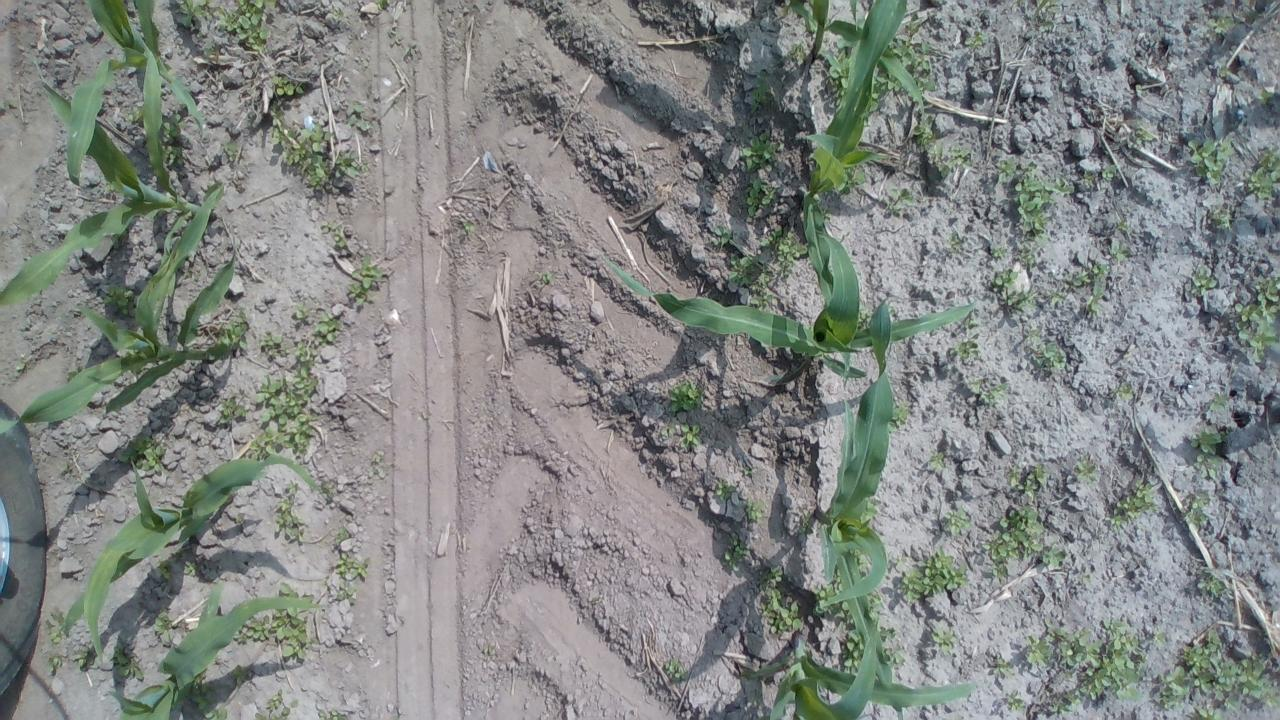Maize: (0, 184, 239, 436), (0, 34, 216, 304), (61, 452, 332, 664), (595, 234, 977, 380), (800, 0, 907, 392), (813, 301, 902, 716), (108, 579, 328, 720), (67, 0, 211, 189), (738, 632, 978, 720), (788, 0, 928, 121)
Weeds: (1152, 630, 1280, 720), (1050, 619, 1148, 716), (269, 100, 373, 190), (993, 157, 1055, 270), (250, 373, 320, 460), (981, 504, 1044, 584), (896, 548, 971, 606), (911, 108, 972, 178), (270, 582, 322, 664), (1232, 276, 1280, 364), (214, 0, 282, 54), (886, 21, 936, 92), (758, 224, 808, 284), (760, 566, 804, 633), (1108, 478, 1160, 532), (728, 252, 774, 312), (1189, 137, 1237, 190), (203, 310, 250, 362), (272, 481, 308, 546), (814, 569, 855, 624), (182, 671, 228, 720), (1190, 425, 1232, 478), (1070, 262, 1110, 317), (119, 432, 166, 478), (344, 253, 384, 306), (738, 132, 786, 176), (818, 46, 851, 106), (1246, 146, 1280, 202), (1024, 327, 1066, 369), (740, 174, 776, 218), (1008, 462, 1048, 498), (964, 374, 1010, 404), (665, 380, 704, 415), (659, 418, 702, 449), (863, 70, 887, 125), (255, 689, 297, 720), (104, 284, 138, 322), (841, 628, 866, 677), (151, 606, 181, 646), (750, 71, 779, 112), (233, 612, 270, 644), (722, 533, 751, 572), (884, 181, 914, 218), (927, 627, 961, 659), (111, 645, 143, 678), (1023, 632, 1051, 669), (334, 550, 368, 580), (1005, 288, 1040, 316), (940, 505, 971, 536), (314, 314, 342, 348), (292, 341, 317, 378), (256, 330, 290, 357), (178, 0, 210, 28), (44, 612, 70, 646), (217, 396, 247, 424), (1184, 494, 1210, 526), (1035, 0, 1061, 32), (1190, 268, 1218, 297), (889, 398, 911, 434), (320, 220, 348, 248), (1195, 568, 1225, 594), (708, 224, 738, 250), (270, 74, 305, 96), (839, 166, 866, 194), (951, 334, 978, 360), (334, 579, 359, 606), (1074, 458, 1099, 485), (160, 113, 181, 145), (74, 640, 96, 670), (664, 656, 689, 682), (161, 144, 186, 170), (788, 38, 809, 68), (714, 478, 738, 504), (1041, 543, 1067, 567), (864, 592, 886, 620), (852, 548, 871, 580), (1206, 14, 1236, 34), (744, 495, 766, 522), (990, 268, 1018, 289), (880, 646, 906, 668), (368, 453, 388, 480), (199, 44, 224, 65), (964, 30, 990, 50), (1007, 688, 1028, 712), (230, 664, 250, 688), (1134, 120, 1154, 144), (1053, 175, 1076, 195), (1110, 243, 1131, 264), (944, 232, 962, 256), (289, 300, 309, 321), (154, 558, 173, 579), (1208, 208, 1230, 226), (992, 655, 1011, 675), (222, 141, 240, 162), (1045, 287, 1066, 305), (799, 512, 814, 537), (1112, 386, 1136, 401), (128, 106, 144, 128), (1208, 396, 1230, 412), (181, 560, 200, 578), (927, 452, 946, 470), (1100, 164, 1118, 182), (12, 352, 28, 371), (1080, 170, 1096, 188), (878, 626, 898, 640), (402, 41, 418, 58), (319, 710, 346, 720), (48, 655, 62, 674), (1257, 89, 1274, 104), (1242, 0, 1256, 18), (964, 317, 979, 332), (538, 270, 554, 284), (66, 367, 80, 382), (183, 268, 198, 282), (1219, 63, 1233, 78), (336, 528, 347, 546), (319, 481, 333, 495), (1116, 218, 1129, 232), (749, 690, 760, 706), (0, 100, 17, 110), (464, 222, 476, 233), (742, 467, 754, 478), (332, 7, 344, 18), (376, 0, 390, 9), (234, 512, 244, 524), (190, 359, 202, 368), (143, 158, 153, 168), (1134, 84, 1142, 92)
